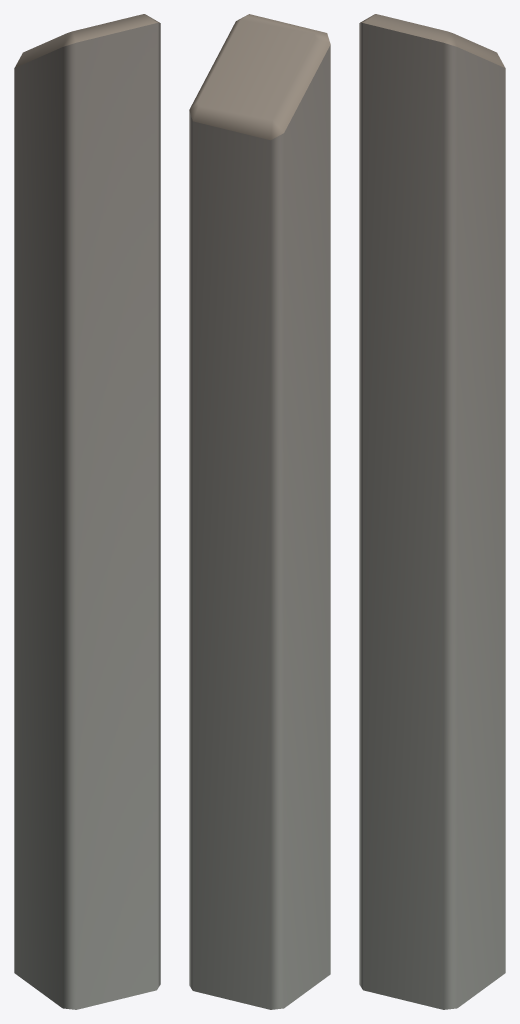
The model's file is eca_bld_wood_fence_b_end.DAE.
3 views of the same model, side by side, from view 1: azimuth 30°, elevation 25°; view 2: azimuth 150°, elevation 25°; view 3: azimuth 330°, elevation 25° (orthographic). The views are drawn at different scales.
Parts seen in each view (by area): view 1: eca_bld_wood_fence_b_end30; view 2: eca_bld_wood_fence_b_end30; view 3: eca_bld_wood_fence_b_end30.
Boxes of the visible parts, x1,y1,x2,y2 form: eca_bld_wood_fence_b_end30: (14, 14, 160, 1009); eca_bld_wood_fence_b_end30: (189, 14, 330, 1009); eca_bld_wood_fence_b_end30: (359, 14, 505, 1009).
Size of the model in its own units: 0.0954 by 0.0983 by 0.9037.
